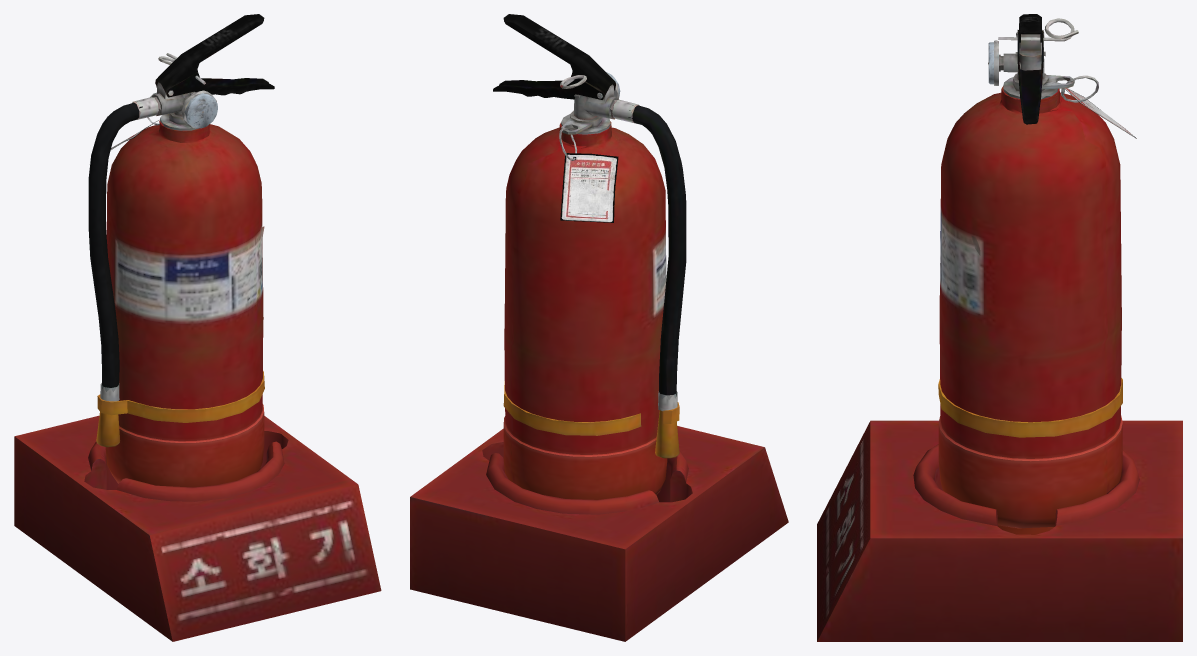
The model's file is korean_fire_extinguisher_01.glb.
The picture shows the model from 3 angles, left to right: view 1: azimuth 30°, elevation 25°; view 2: azimuth 150°, elevation 25°; view 3: azimuth 270°, elevation 25°; orthographic projection. The views are drawn at different scales.
Parts seen in each view (by area): view 1: korean_fire_extinguisher_01; view 2: korean_fire_extinguisher_01; view 3: korean_fire_extinguisher_01.
Boxes of the visible parts, left/top/right/bottom form: korean_fire_extinguisher_01: left=14, top=14, right=381, bottom=641; korean_fire_extinguisher_01: left=410, top=14, right=788, bottom=641; korean_fire_extinguisher_01: left=817, top=14, right=1182, bottom=641.
Size of the model in its own units: 0.2795 by 0.6592 by 0.3674.
1 material, 1 textured.
